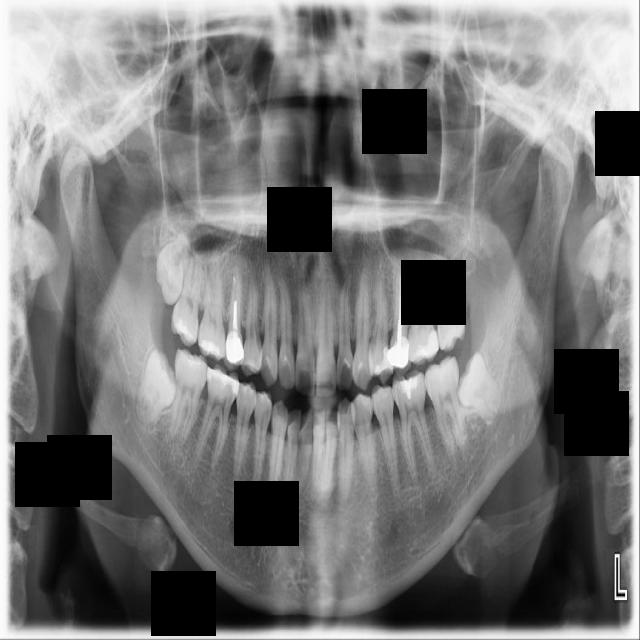3M ESPE Implant: (147, 227, 194, 308)
52: (194, 357, 247, 410), (195, 358, 246, 413), (166, 345, 212, 399), (159, 300, 208, 350), (172, 347, 209, 402), (390, 368, 429, 418), (392, 367, 429, 416), (365, 333, 395, 387), (405, 322, 440, 368), (385, 331, 415, 377), (349, 339, 375, 392), (198, 323, 226, 362), (259, 340, 279, 388), (336, 345, 356, 392), (235, 380, 257, 422), (223, 330, 244, 372), (236, 381, 258, 417), (279, 342, 295, 390)
73: (227, 263, 245, 337), (619, 608, 623, 618)
BioHorizons Implant: (430, 249, 468, 354)
Biomet 3i Implant: (442, 349, 512, 430)
Blue Sky Bio Implant: (422, 354, 467, 460)
Caries: (169, 243, 205, 348)
Implant: (168, 347, 210, 441)
Keystone Dental Implant: (129, 347, 187, 432)
